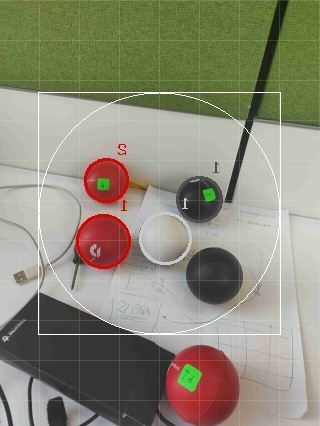Pelota blanca: (0, 217, 44, 331), (31, 185, 81, 267), (186, 246, 244, 304), (138, 212, 193, 267), (175, 174, 225, 224)
Pelota negra: (186, 246, 244, 304), (175, 174, 225, 224), (45, 395, 71, 425)
Pelota roja: (165, 342, 241, 425), (74, 212, 132, 270), (82, 156, 132, 203)
